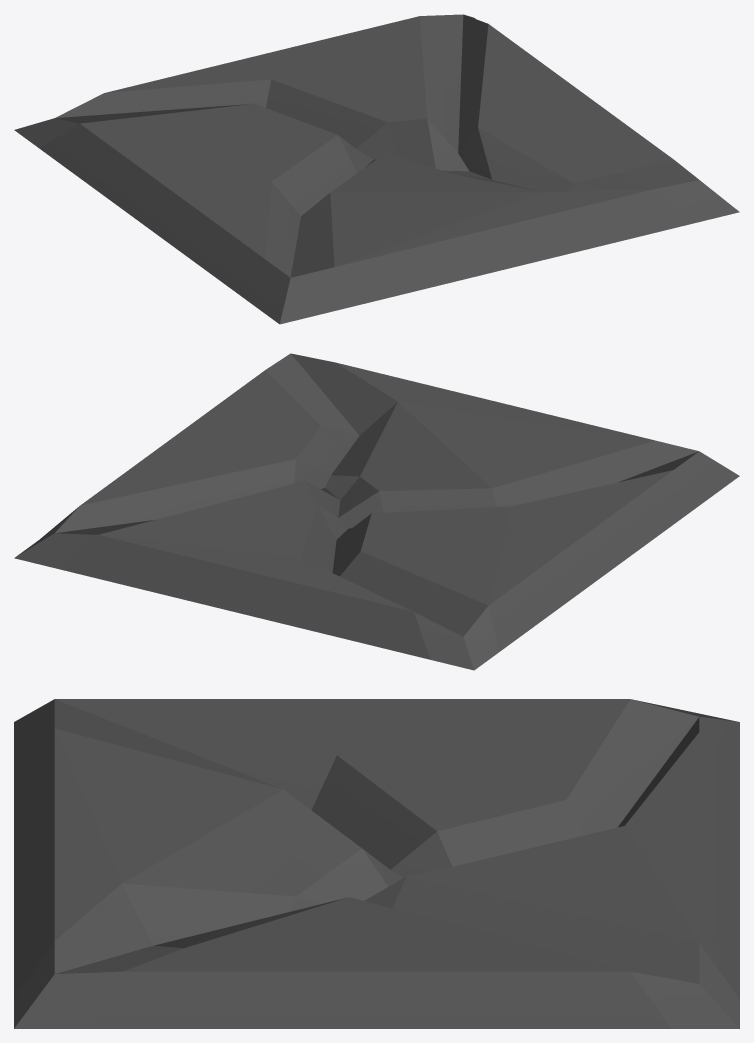
File: Floor_tile_cracked_high_C.fbx
3 views of the same model, one above another, from view 1: azimuth 30°, elevation 25°; view 2: azimuth 150°, elevation 25°; view 3: azimuth 270°, elevation 25° (orthographic). The views are drawn at different scales.
Parts seen in each view (by area): view 1: Floor_tile_cracked_high_C; view 2: Floor_tile_cracked_high_C; view 3: Floor_tile_cracked_high_C.
Boxes of the visible parts, left/top/right/bottom form: Floor_tile_cracked_high_C: left=14, top=14, right=739, bottom=324; Floor_tile_cracked_high_C: left=14, top=353, right=739, bottom=670; Floor_tile_cracked_high_C: left=14, top=699, right=739, bottom=1028.
Size of the model in its own units: 100 by 6.84 by 100.
